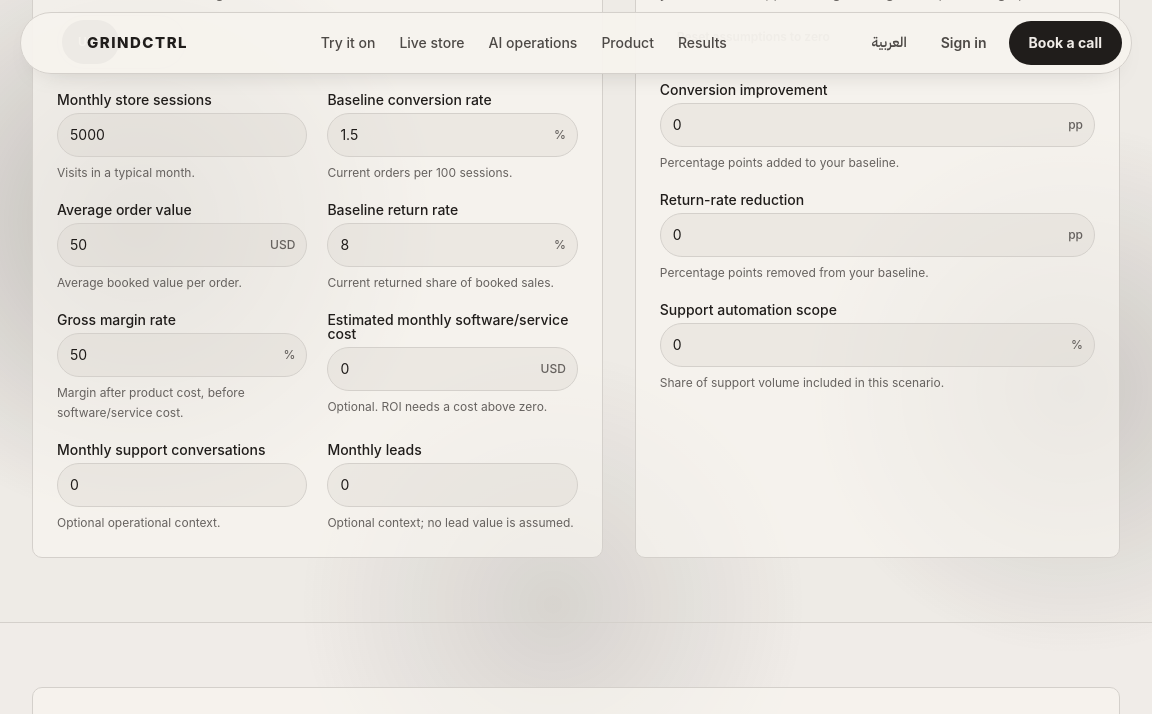
RoiPageContent › shows an inline validation message and hides results for an out-of-range input
(page scrolled)
Replace the text in the number field labelled "Gross margin rate" with "150" at (182, 355), box x1=57 y1=333 x2=307 y2=377
(page scrolled)
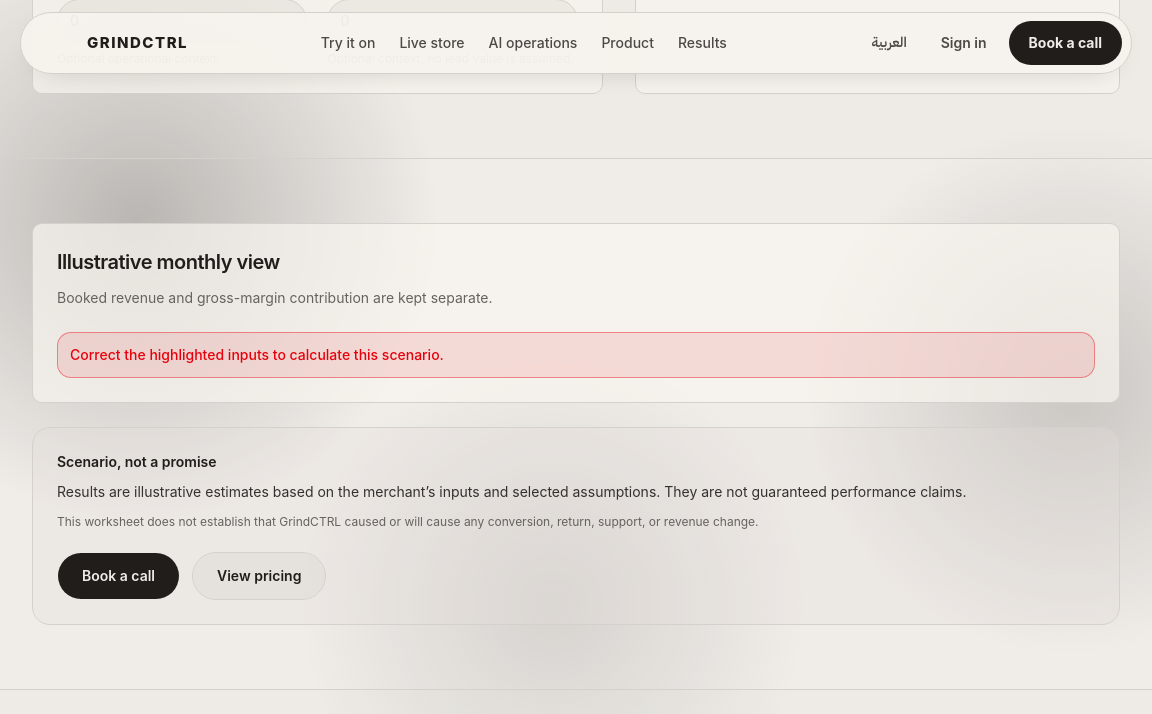
expect the message reads "Correct the highlighted inputs to calculate this scenario.": met, box x1=70 y1=346 x2=444 y2=363
